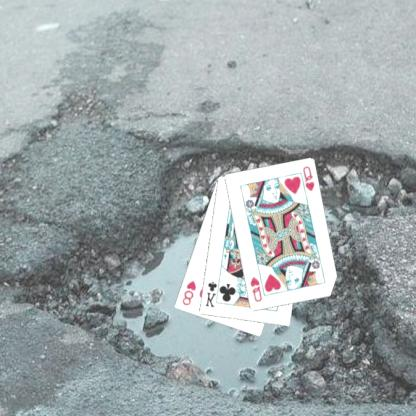8H: (181, 277, 199, 306)
KC: (204, 277, 223, 309)
QH: (299, 164, 317, 198), (249, 274, 265, 304)
